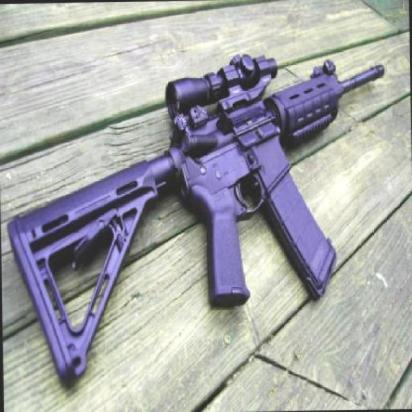Gun: (1, 26, 393, 378)
